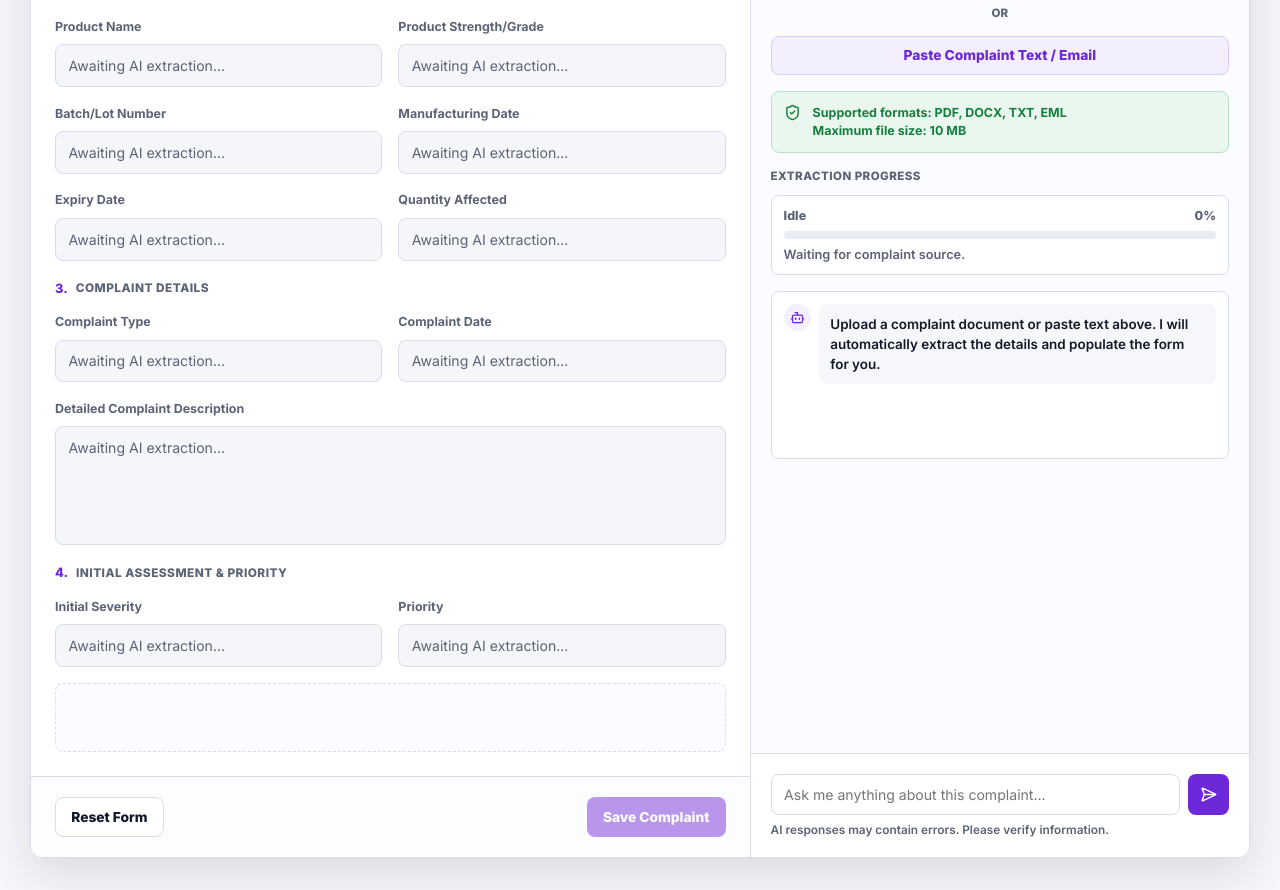
Scenario: App › reset opens ConfirmationModal
This screenshot has width=1280, height=890.
(page scrolled)
Click the button with test id "complaint-reset-button": (109, 817) x1=55 y1=797 x2=164 y2=837
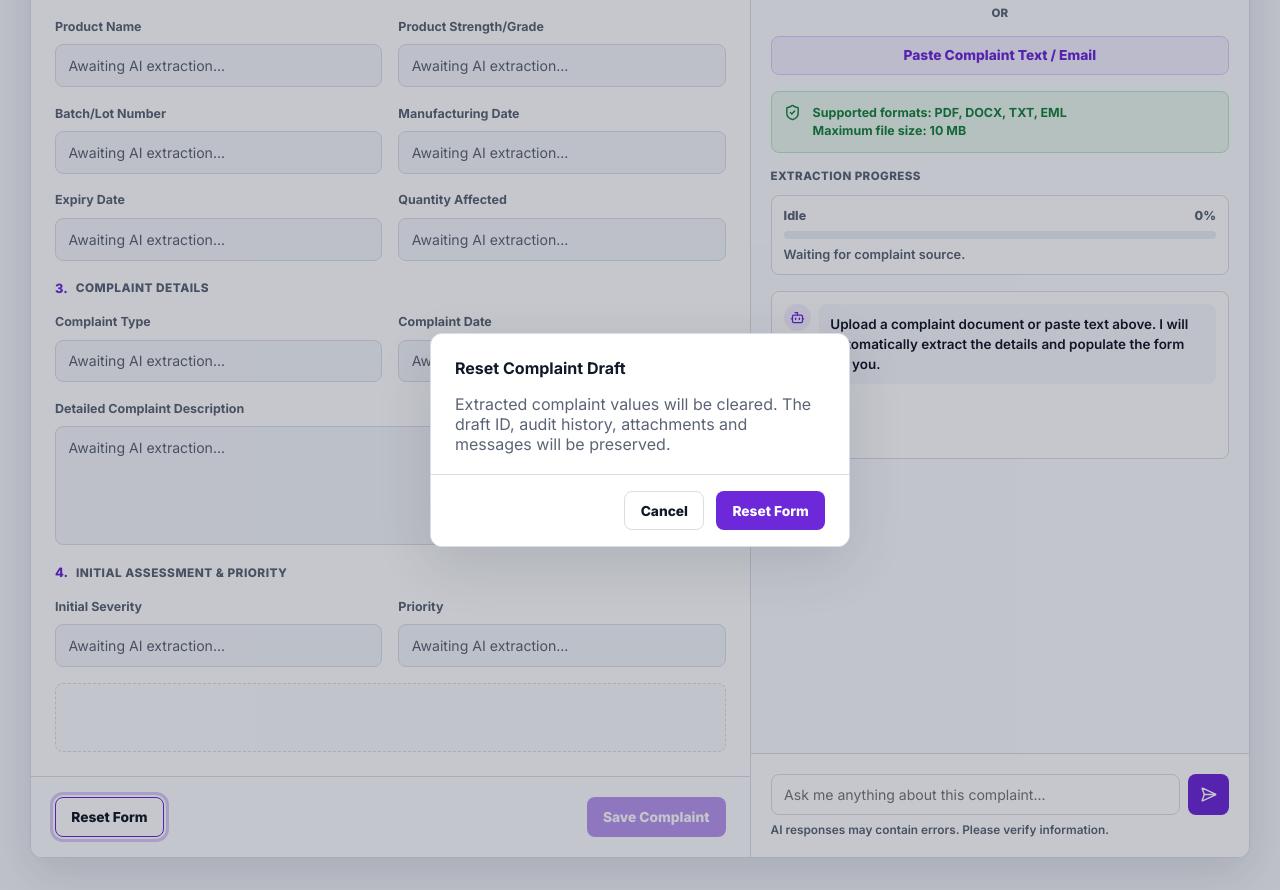
Expected: the dialog "Reset Complaint Draft" is shown, x1=430 y1=333 x2=850 y2=547
Expected: the text "Extracted complaint values will be cleared" is shown, x1=455 y1=394 x2=811 y2=454
